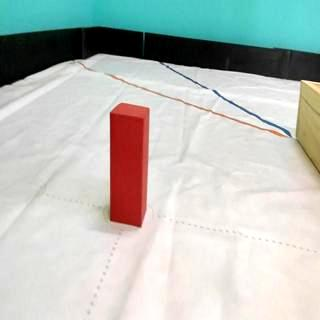redbox: (108, 100, 149, 228)
